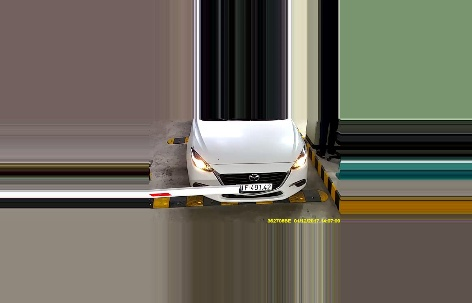plate: (236, 181, 272, 193)
